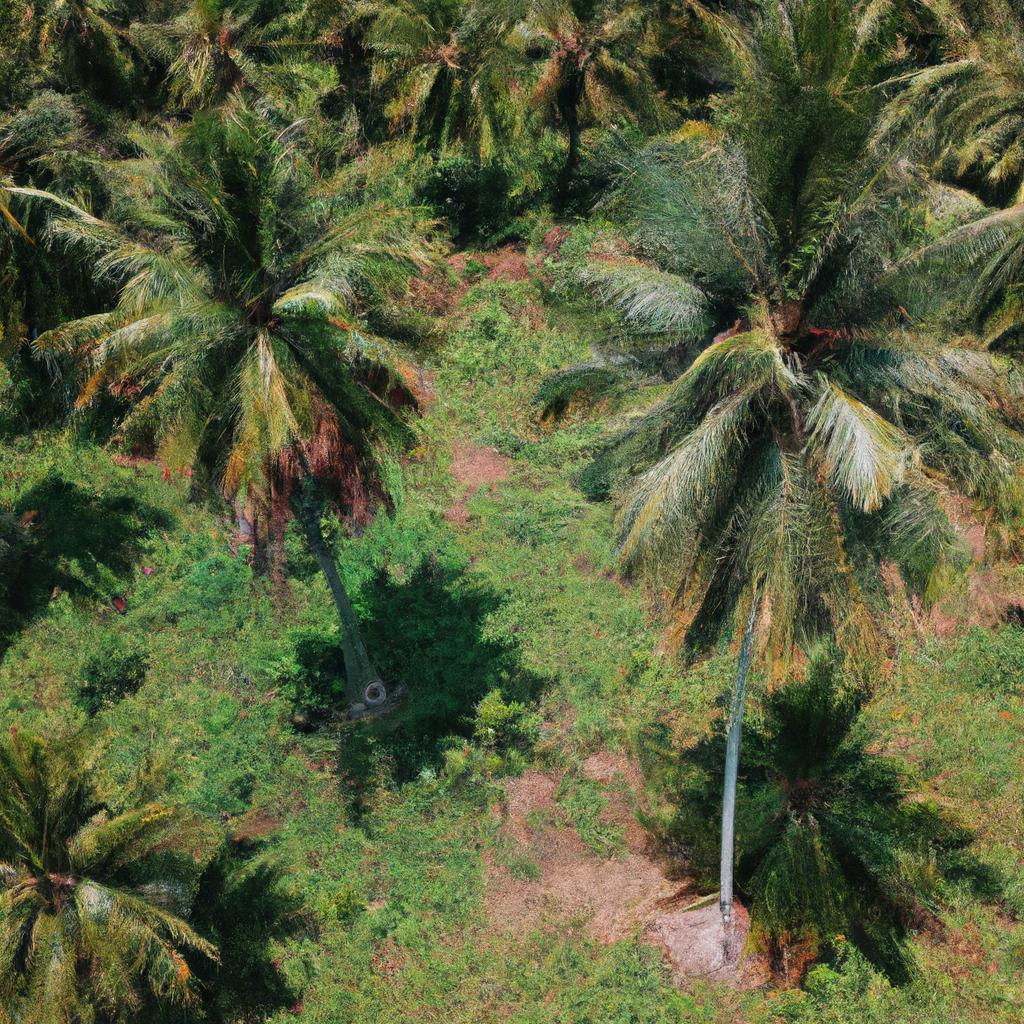coconut_tree: (530, 0, 1023, 702), (10, 63, 518, 615)
